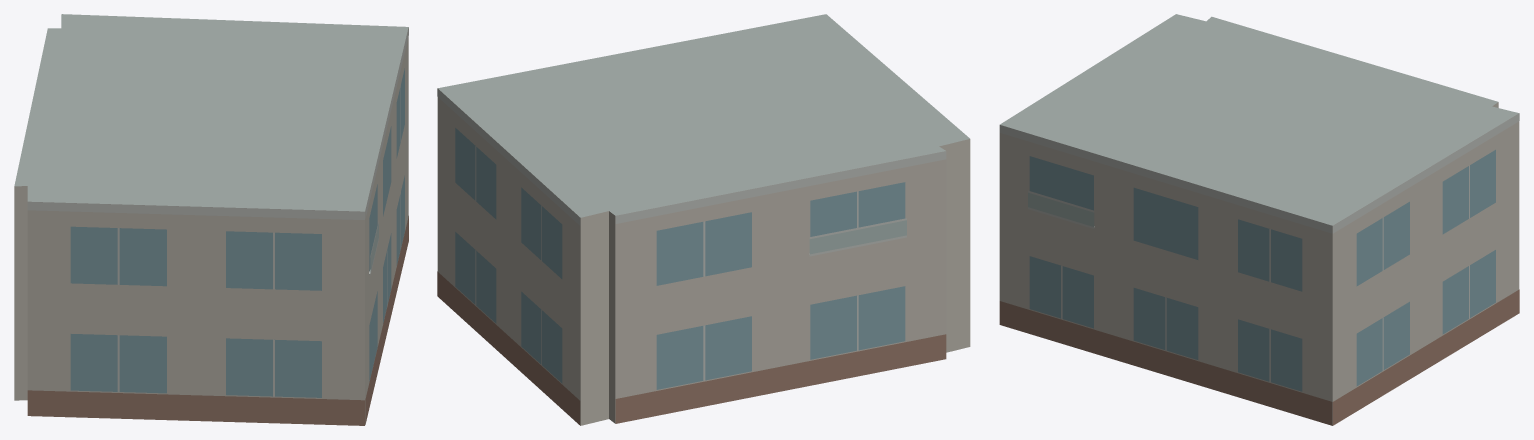
File: survey-upis-32670194.glb
The picture shows the model from 3 angles, left to right: view 1: azimuth 30°, elevation 25°; view 2: azimuth 150°, elevation 25°; view 3: azimuth 270°, elevation 25°; orthographic projection. The views are drawn at different scales.
Parts seen in each view (by area): view 1: survey-upis-32670194.tmp; view 2: survey-upis-32670194.tmp; view 3: survey-upis-32670194.tmp.
Boxes of the visible parts, <box> form: survey-upis-32670194.tmp: <box>14,14,408,425</box>; survey-upis-32670194.tmp: <box>437,14,970,425</box>; survey-upis-32670194.tmp: <box>999,14,1519,425</box>.
Size of the model in its own units: 13.86 by 6.1 by 14.37.
